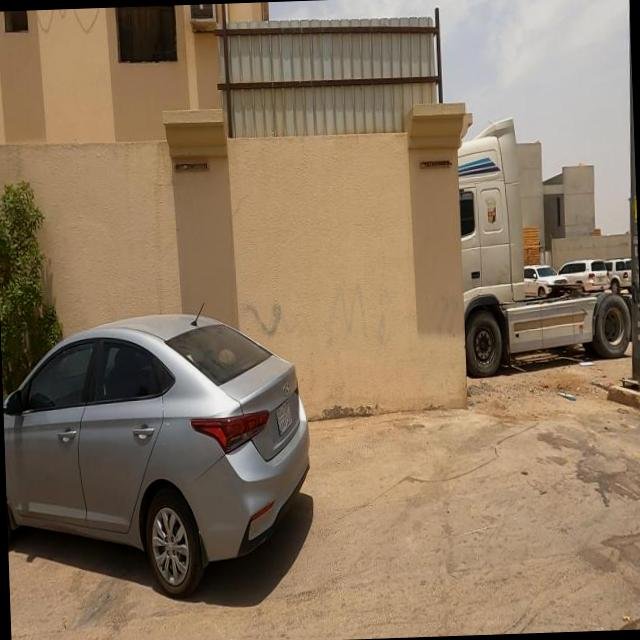debris: (188, 236, 426, 391), (530, 368, 596, 426)
